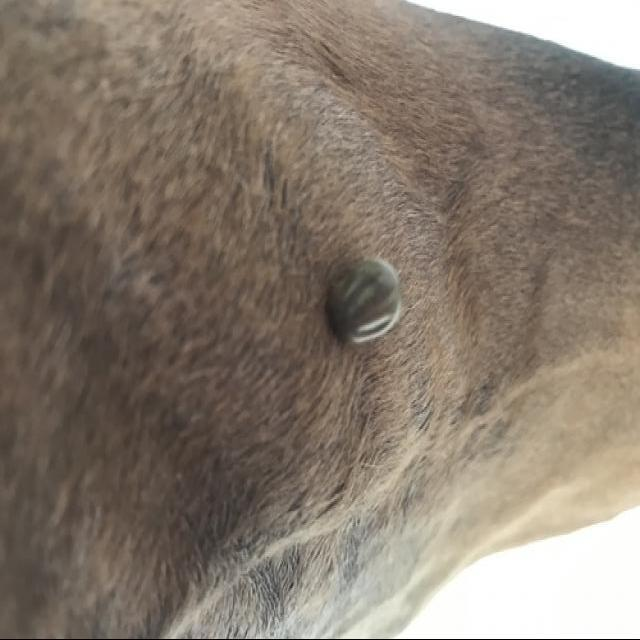Ixodes Ricinus-F-Fed: (324, 256, 406, 352)
